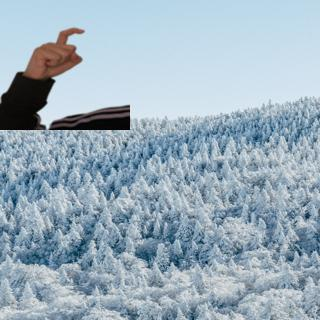WHY: (21, 23, 88, 81)
